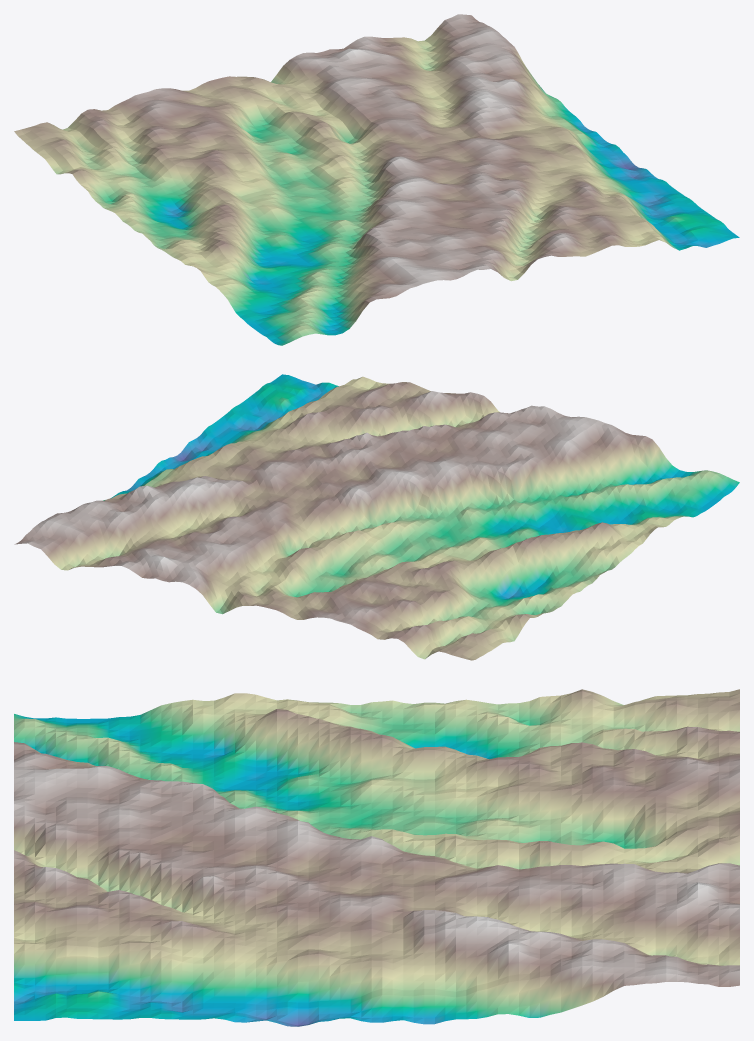
File: 000371_terrain_only.glb
3 renders of one model, top to bottom at view 1: azimuth 30°, elevation 25°; view 2: azimuth 150°, elevation 25°; view 3: azimuth 270°, elevation 25°, orthographic. The views are drawn at different scales.
Parts seen in each view (by area): view 1: terrain; view 2: terrain; view 3: terrain.
Part boxes in pixels (bbox=[...]): terrain: bbox=[14, 14, 739, 345]; terrain: bbox=[14, 374, 739, 660]; terrain: bbox=[14, 689, 739, 1026].
Size of the model in its own units: 0.0183 by 0.00161 by 0.0186.
